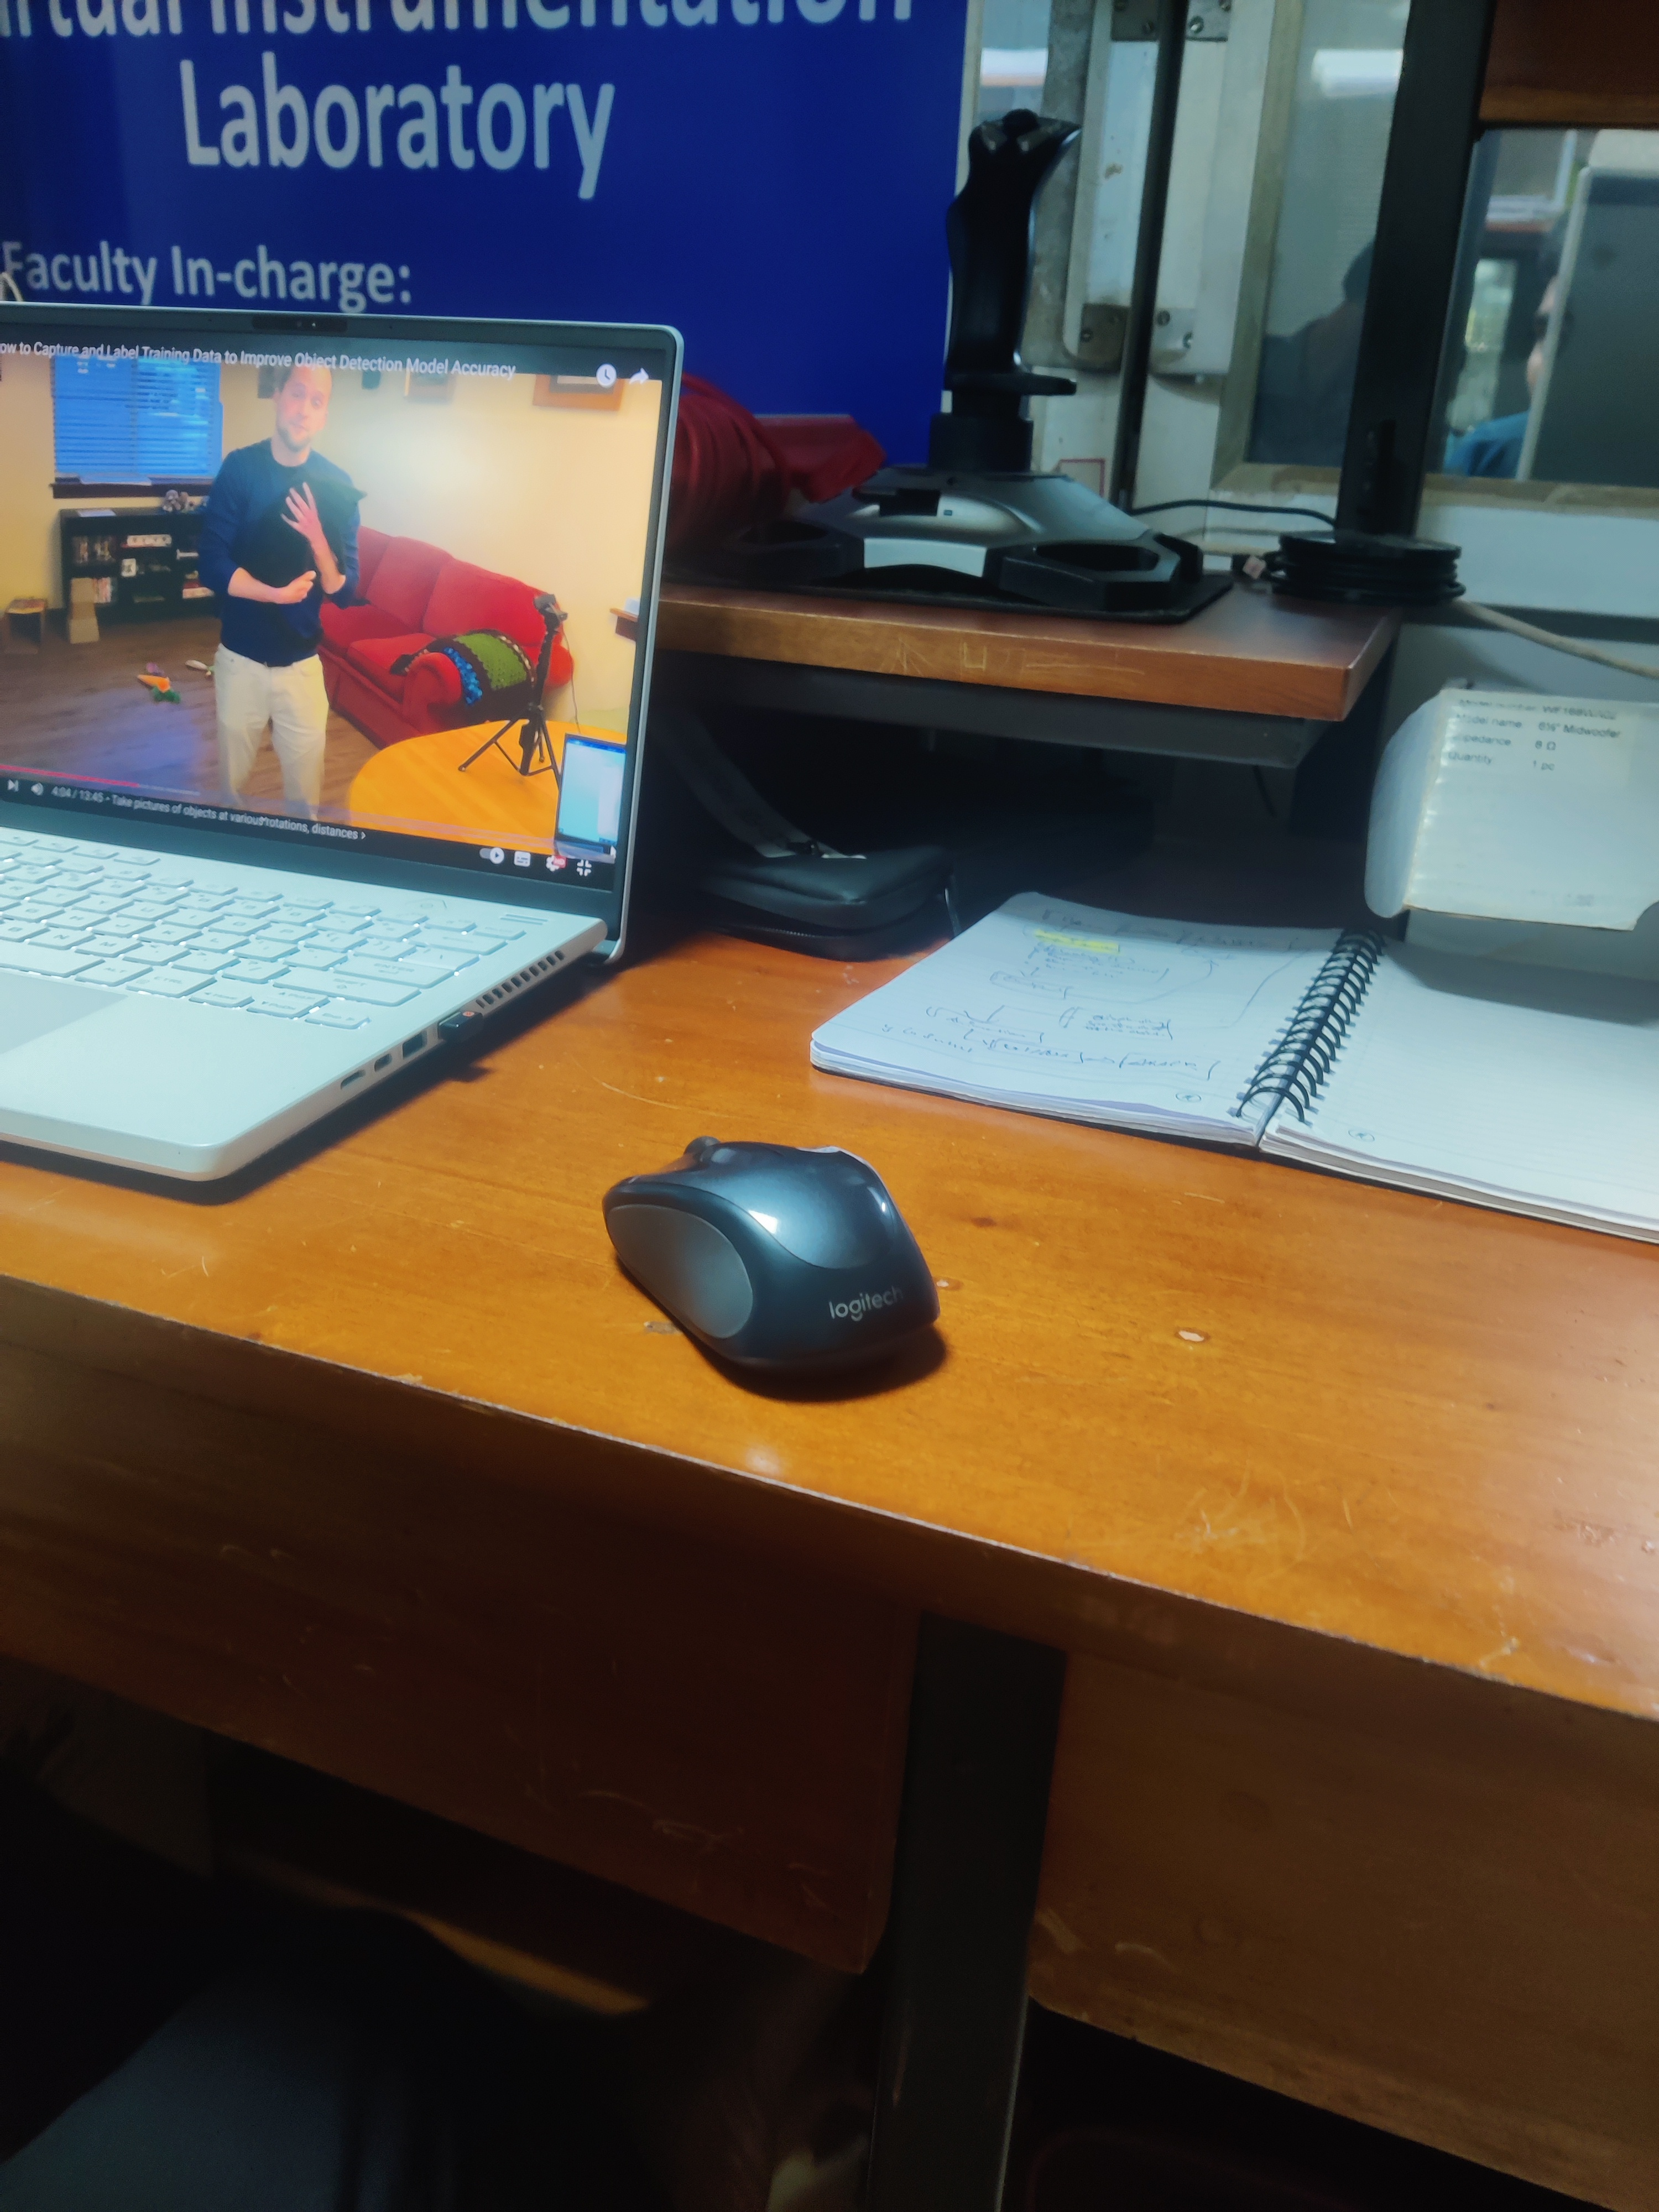logitechMouse: (570, 1122, 972, 1404)
